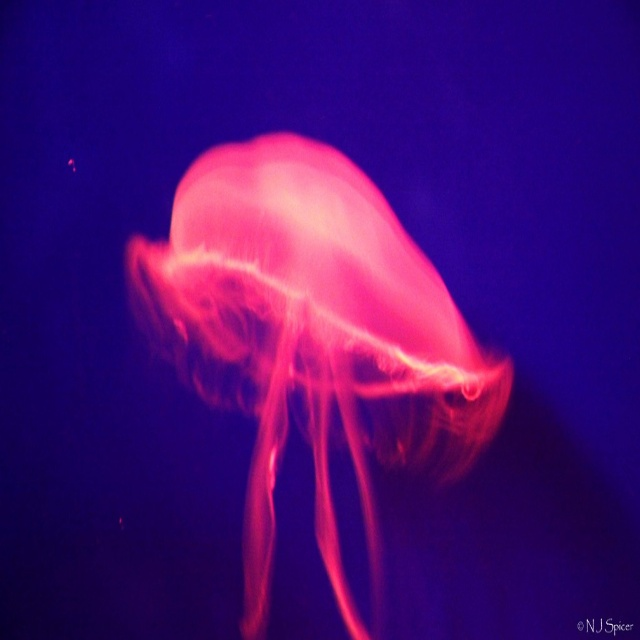Jellyfish: (103, 120, 517, 617)
